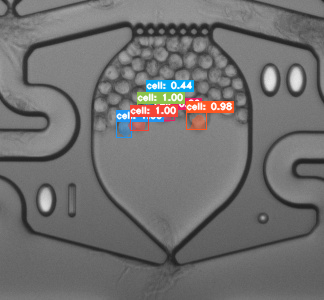AptNum: (254, 59, 310, 106)
Marker: (250, 208, 276, 228)
StNum: (32, 176, 84, 225)
